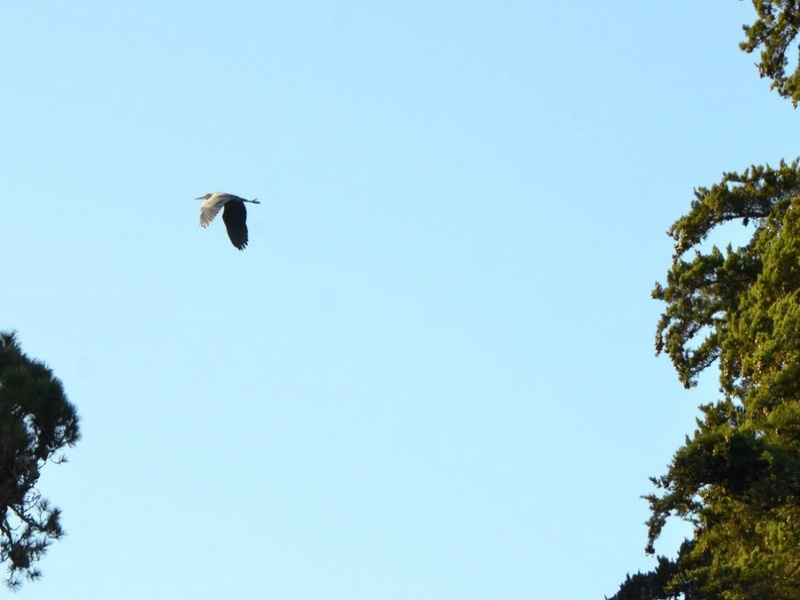heron: (191, 190, 259, 252)
